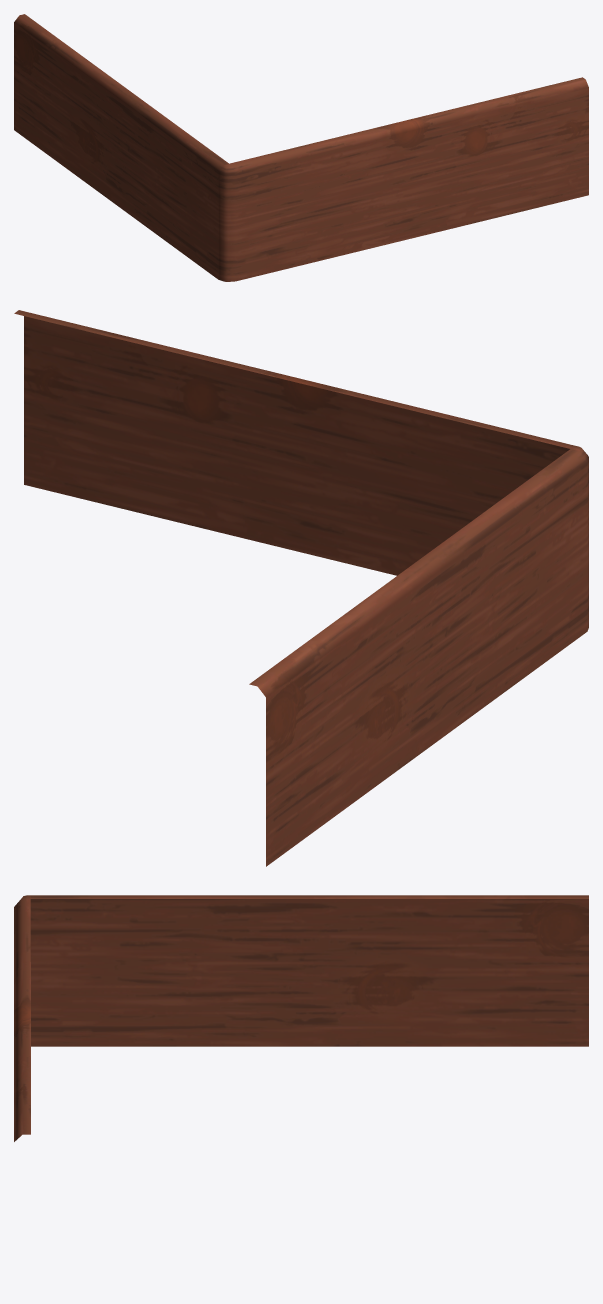
Rendered from En_W_Woodtrim_corner2.fbx.
The picture shows the model from 3 angles, top to bottom: view 1: azimuth 30°, elevation 25°; view 2: azimuth 150°, elevation 25°; view 3: azimuth 270°, elevation 25°; orthographic projection. The views are drawn at different scales.
Parts seen in each view (by area): view 1: En_W_Woodtrim_corner1; view 2: En_W_Woodtrim_corner1; view 3: En_W_Woodtrim_corner1.
Boxes of the visible parts, x1,y1,x2,y2 form: En_W_Woodtrim_corner1: [14, 14, 588, 281]; En_W_Woodtrim_corner1: [14, 310, 588, 866]; En_W_Woodtrim_corner1: [14, 895, 588, 1141].
Size of the model in its own units: 206 by 61.34 by 206.
